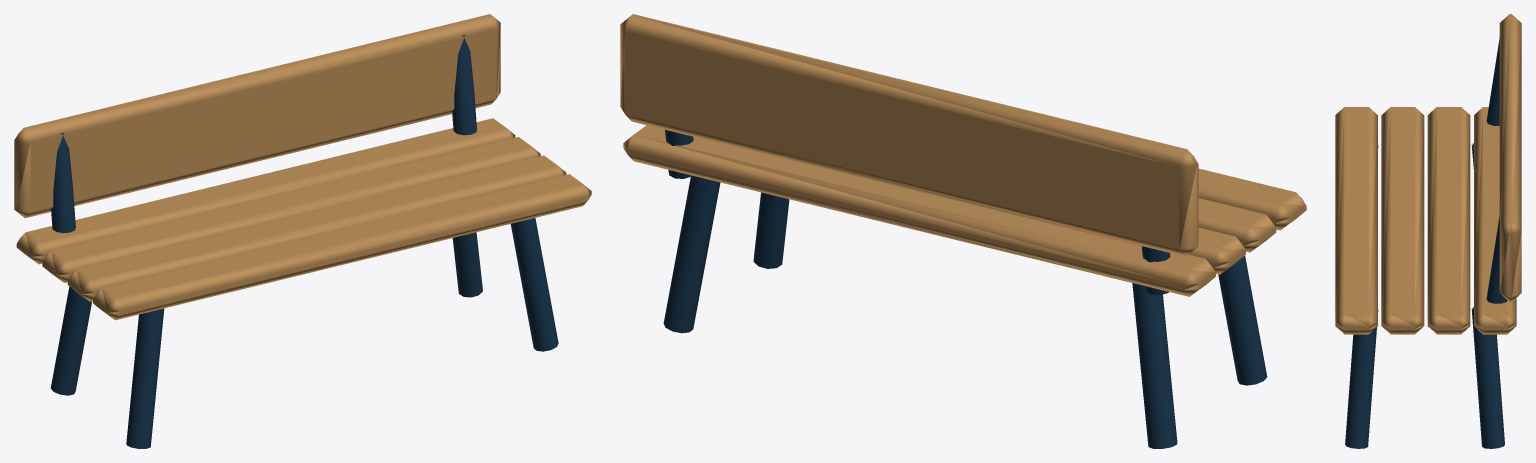
File: bench.fbx
3 renders of one model, left to right at view 1: azimuth 30°, elevation 25°; view 2: azimuth 150°, elevation 25°; view 3: azimuth 270°, elevation 25°, orthographic. The views are drawn at different scales.
Parts seen in each view (by area): view 1: bench; view 2: bench; view 3: bench.
Boxes of the visible parts, box(x1,y1,x2,y2) form: bench: box(14, 14, 591, 448); bench: box(620, 14, 1306, 448); bench: box(1335, 14, 1521, 448).
Size of the model in its own units: 150 by 78 by 55.
